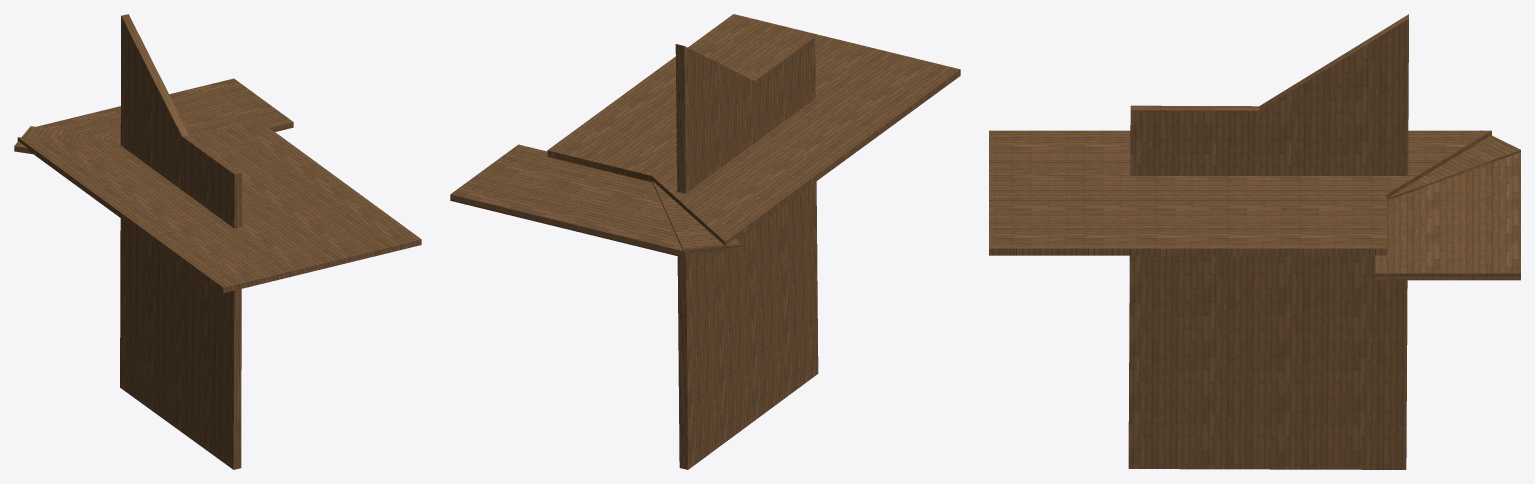
Rendered from SM_A1FloorSET_Floor (1).fbx.
3 renders of one model, left to right at view 1: azimuth 30°, elevation 25°; view 2: azimuth 150°, elevation 25°; view 3: azimuth 270°, elevation 25°, orthographic. The views are drawn at different scales.
Parts seen in each view (by area): view 1: Cube__15_001, SM_A1FloorSET01_Floor, SM_A1FloorSET03_Floor, SM_A1FloorSET02_Floor; view 2: Cube__15_001, SM_A1FloorSET01_Floor, SM_A1FloorSET03_Floor, SM_A1FloorSET02_Floor; view 3: Cube__15_001, SM_A1FloorSET01_Floor, SM_A1FloorSET03_Floor, SM_A1FloorSET02_Floor.
Boxes of the visible parts, x1,y1,x2,y2 form: Cube__15_001: (120,14,241,469); SM_A1FloorSET01_Floor: (17,120,421,293); SM_A1FloorSET03_Floor: (36,78,293,139); SM_A1FloorSET02_Floor: (14,126,120,154); Cube__15_001: (675,35,818,469); SM_A1FloorSET01_Floor: (547,14,960,247); SM_A1FloorSET03_Floor: (450,144,689,257); SM_A1FloorSET02_Floor: (652,181,739,254); Cube__15_001: (1128,14,1408,469); SM_A1FloorSET01_Floor: (989,130,1491,255); SM_A1FloorSET03_Floor: (1375,152,1520,280); SM_A1FloorSET02_Floor: (1387,130,1520,200).
Bounding box in the file's own units: 2951 × 4425 × 4710.
